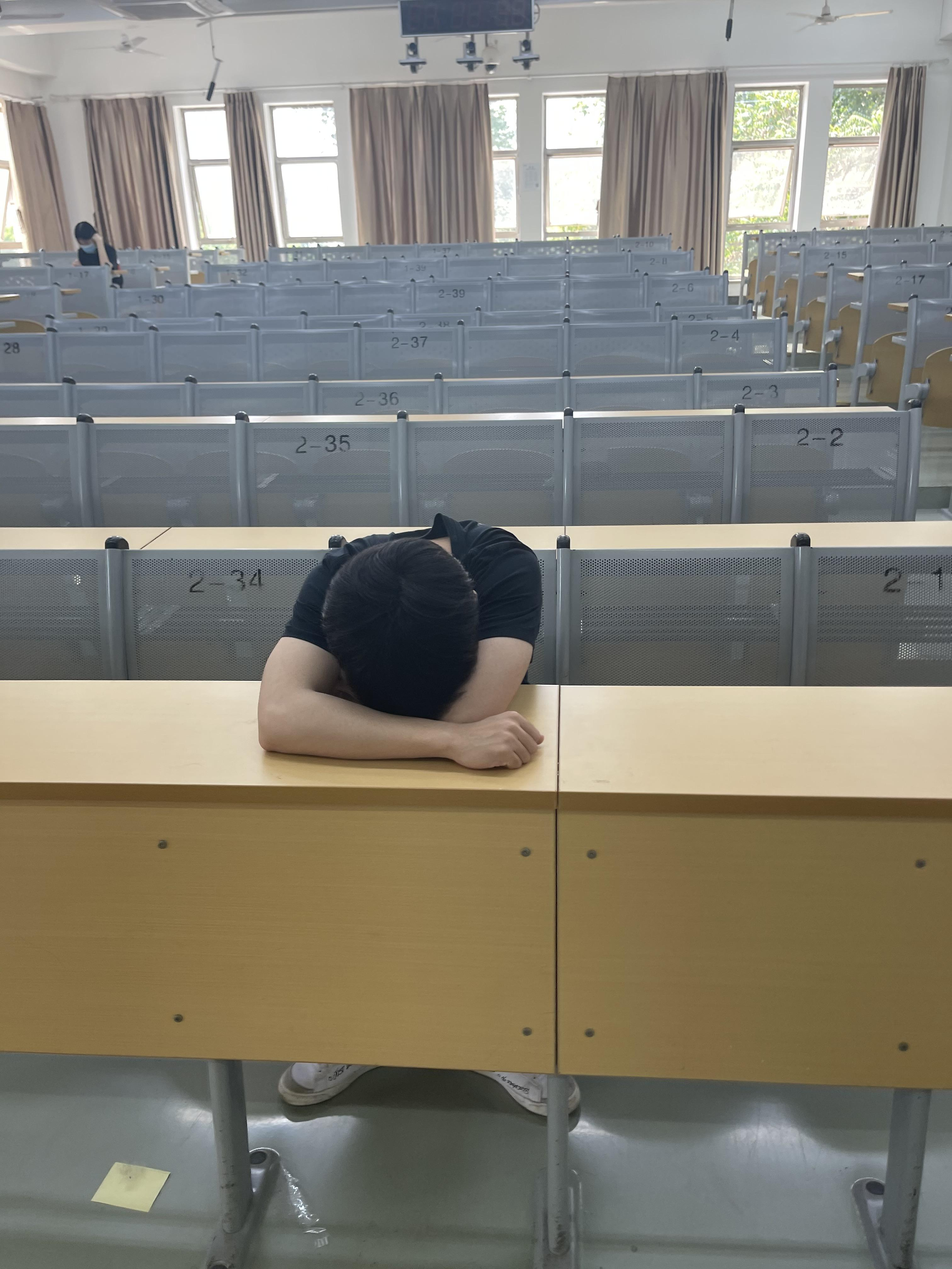sleep: (257, 525, 551, 773)
study: (70, 217, 114, 266)
